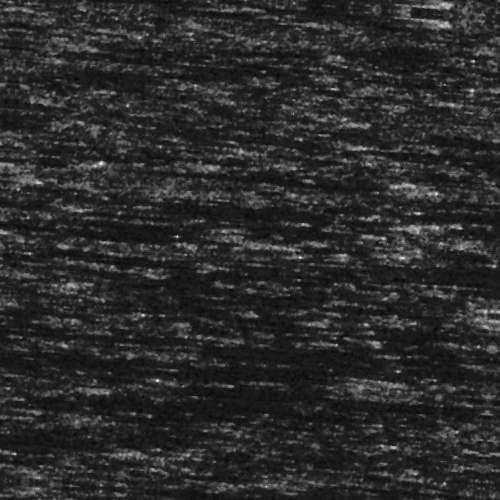object: (328, 0, 443, 13), (275, 109, 400, 120), (345, 174, 470, 183), (394, 490, 487, 500), (306, 133, 379, 140), (425, 294, 498, 301), (382, 208, 455, 213), (263, 312, 336, 317), (245, 239, 298, 244), (278, 66, 309, 71), (354, 370, 385, 373), (485, 389, 500, 394), (479, 344, 500, 347)
shadow: (251, 135, 500, 148), (336, 247, 500, 266), (170, 174, 407, 183), (229, 0, 386, 13), (165, 389, 500, 394), (106, 133, 342, 140), (258, 109, 337, 120), (354, 490, 440, 500), (236, 344, 495, 347), (374, 294, 461, 301), (384, 123, 500, 128), (400, 196, 500, 201), (211, 312, 299, 317), (186, 239, 272, 244), (337, 208, 418, 213), (213, 66, 293, 71), (281, 370, 369, 373), (489, 77, 500, 88)
